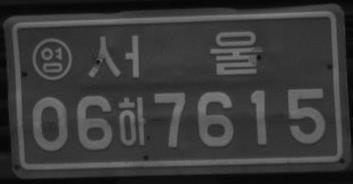0: (30, 96, 69, 152)
1: (242, 88, 275, 145)
5: (286, 87, 326, 144)
6: (75, 94, 114, 151), (196, 90, 233, 148)
7: (153, 91, 187, 148)
서울_D: (87, 29, 262, 78)
영: (31, 38, 72, 81)
하: (118, 95, 147, 146)
